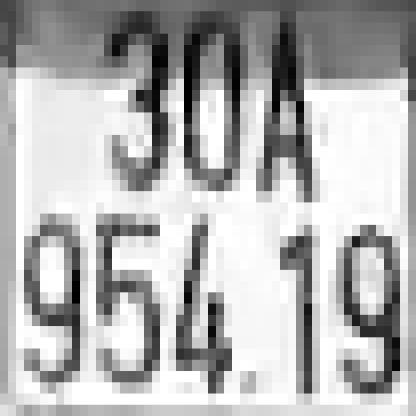0: (184, 11, 240, 191)
1: (256, 214, 320, 394)
3: (104, 11, 168, 191)
4: (176, 202, 224, 382)
5: (96, 202, 160, 382)
9: (328, 214, 392, 382), (24, 202, 80, 382)
A: (256, 22, 312, 202)
